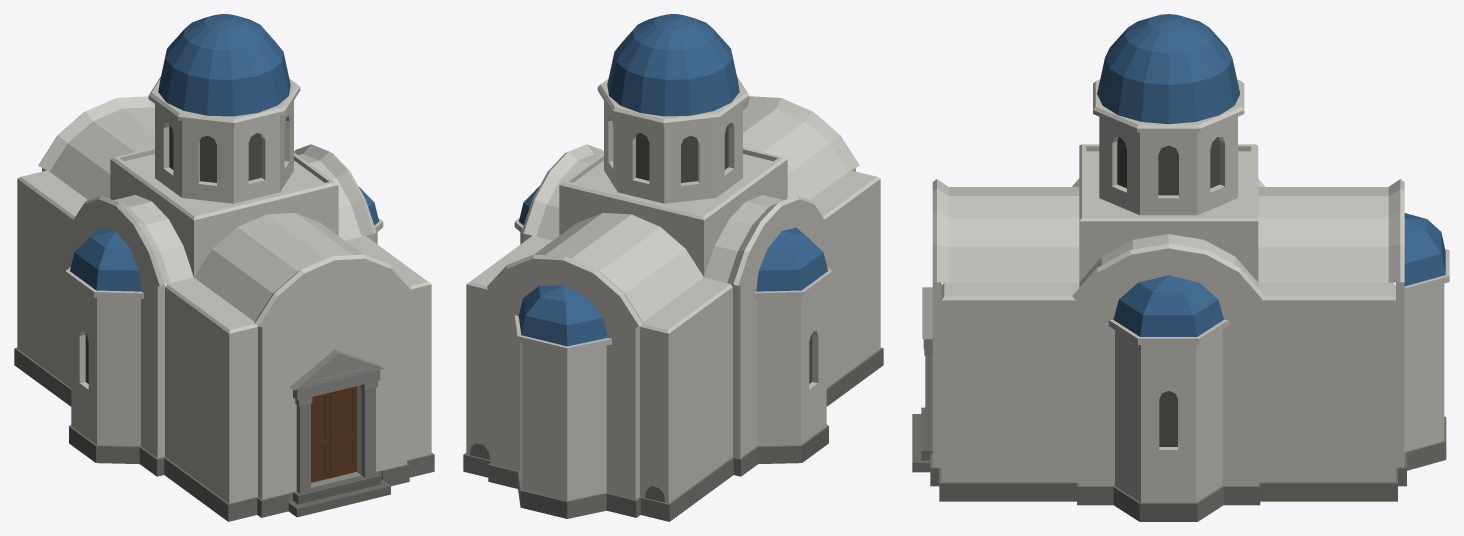
File: domed-church-dcbe85.glb
The picture shows the model from 3 angles, left to right: view 1: azimuth 30°, elevation 25°; view 2: azimuth 150°, elevation 25°; view 3: azimuth 270°, elevation 25°; orthographic projection. The views are drawn at different scales.
Parts seen in each view (by area): view 1: church-body, door-r-leaf, door-l-leaf; view 2: church-body; view 3: church-body.
Boxes of the visible parts, x1,y1,x2,y2 form: church-body: (14,14,434,521); door-r-leaf: (330,386,356,478); door-l-leaf: (311,392,329,482); church-body: (463,14,883,521); church-body: (912,14,1449,521).
Bounding box in the file's own units: 8 × 10.55 × 12.
